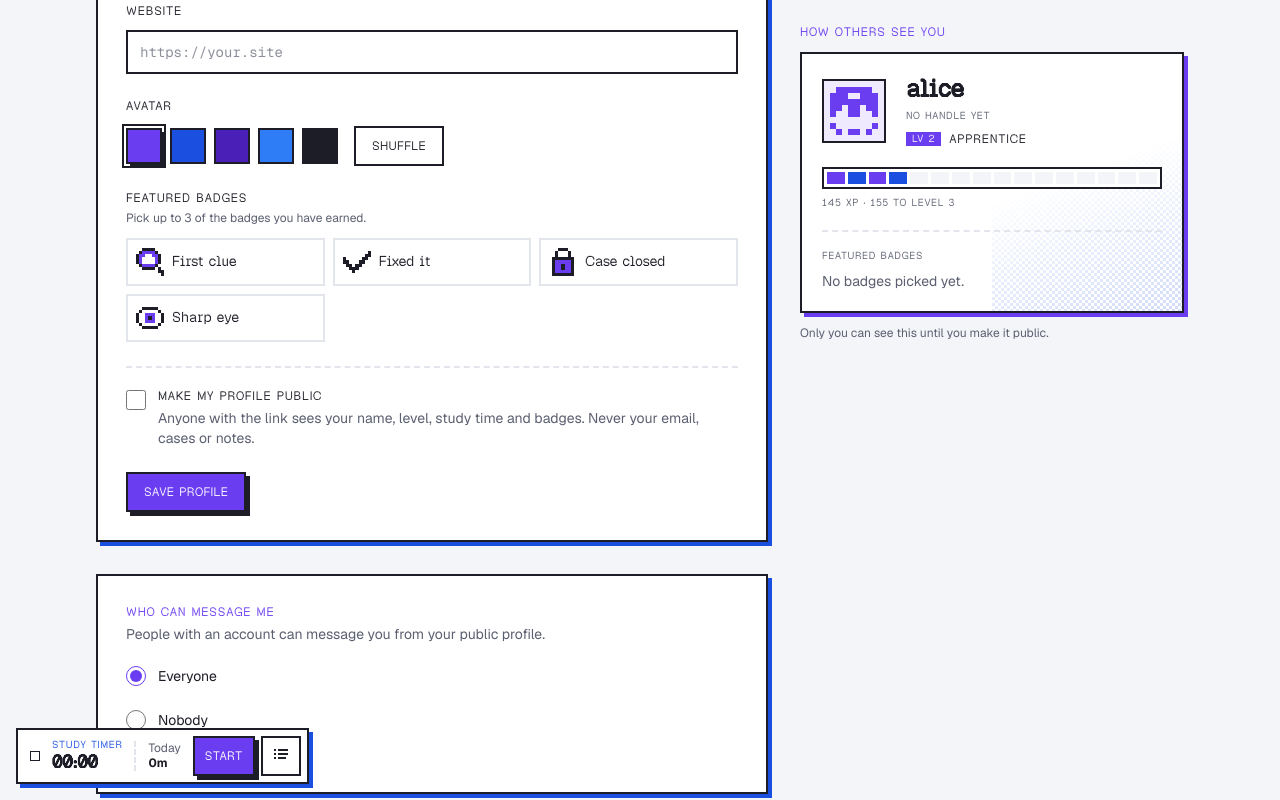
Test case: needs a handle before going public
(page scrolled)
Click the checkbox labelled "Make my profile public" at (136, 400), box 126,390 -> 146,410
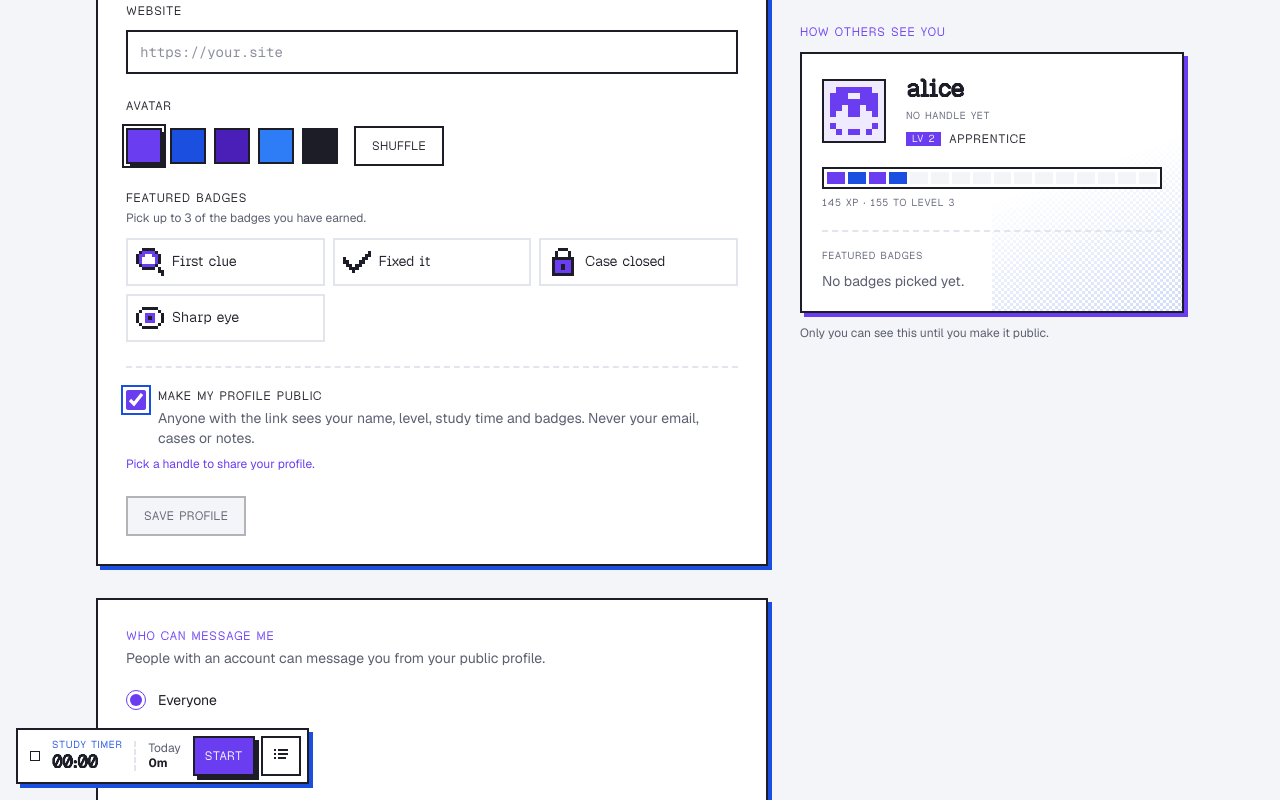
expect the text "Pick a handle to share your profile." is shown: met, box 126,456 -> 315,472
expect the button "Save profile" is disabled: met, box 126,496 -> 246,536
